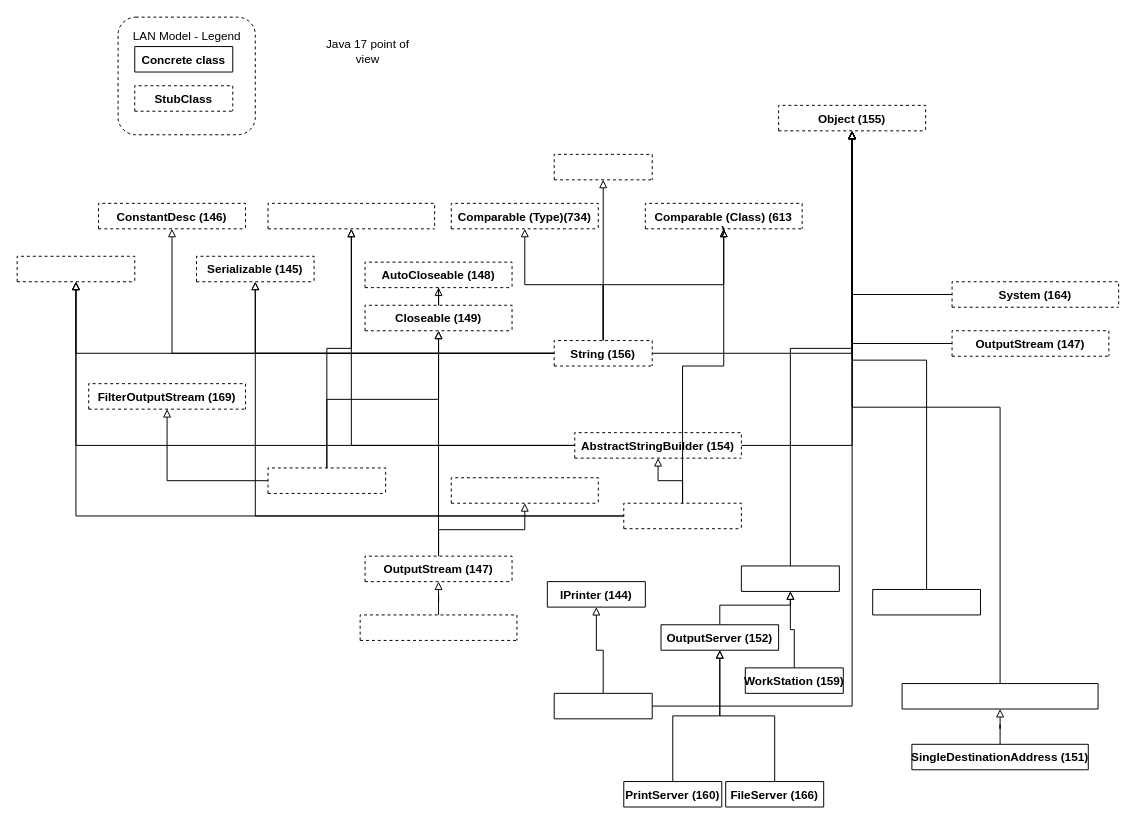
This 1136x824 diagram has some shape labels left out. The shapes that lost their labels are listed below. From the top down, each one's centre as x and y in pixels, then its label:
At point 602,166: "Constable (162)".
At point 351,215: "Appendable (161)".
At point 75,268: "CharSequence (167)".
At point 326,480: "PrintStream (153)".
At point 524,490: "Flushable (163)".
At point 682,515: "StringBuffer (150)".
At point 789,578: "Node (165)".
At point 926,601: "Packet (158)".
At point 438,627: "FilterOutputStream (150)".
At point 602,705: "XPrinter (168)".
At point 999,696: "AbstractDestinationAddress (143)".
